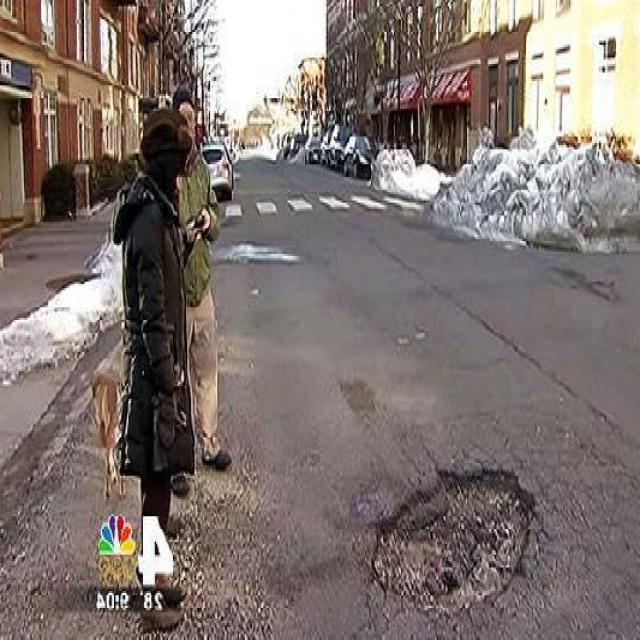pothole: (370, 459, 540, 611), (369, 464, 536, 612)
